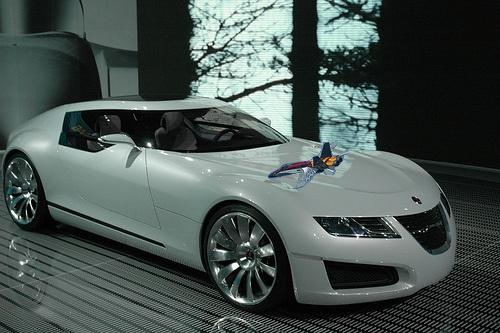tampered: (269, 142, 349, 189)
